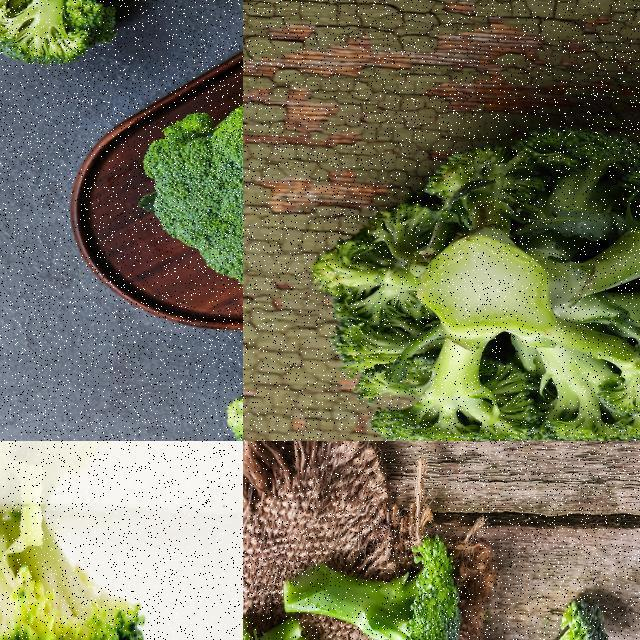broccoli: (305, 118, 639, 440), (143, 53, 242, 293), (0, 487, 149, 639), (283, 524, 469, 639), (0, 0, 173, 64), (540, 585, 612, 639)
